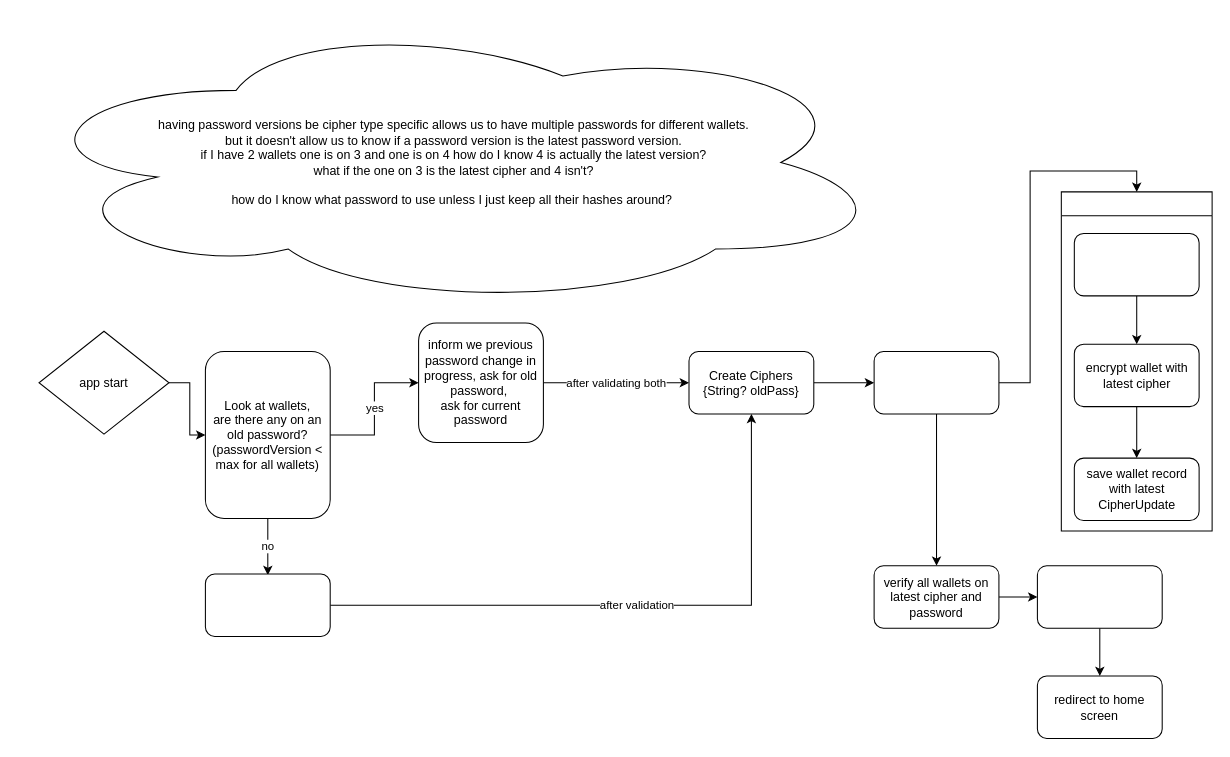
Some shapes in this 1230 by 757 pixel diagram are drawn without their labels. Each missing label, with the box of its shape:
ask for password: (204, 573, 330, 636)
cleanup ciphers: (1036, 565, 1162, 628)
decrypt wallet: (1073, 232, 1199, 296)
for each wallet with an old cipher (for whatever reason)...: (873, 350, 999, 414)
updateWallet: (1060, 191, 1212, 531)
